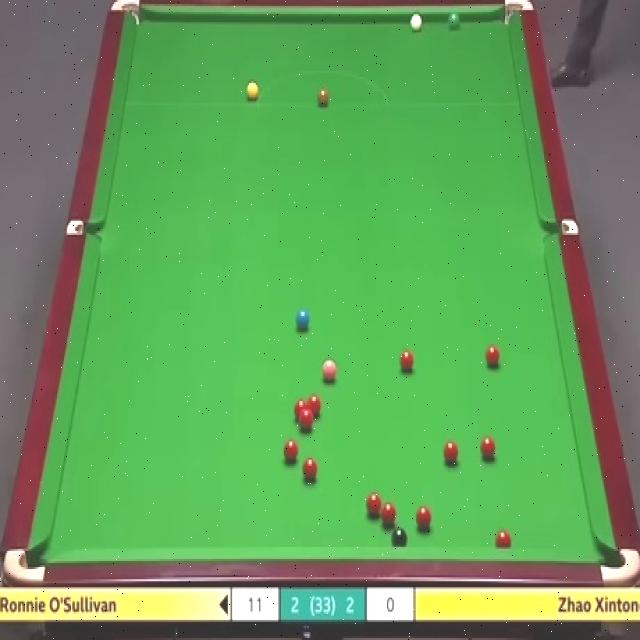black-ball: (392, 526, 408, 548)
blue-ball: (294, 308, 312, 330)
brown-ball: (317, 84, 329, 106)
green-ball: (450, 10, 464, 29)
pink-ball: (321, 360, 338, 384)
red-ball: (442, 440, 461, 466), (415, 506, 433, 533), (381, 499, 397, 529), (280, 441, 300, 464), (399, 346, 415, 374), (480, 436, 498, 460), (365, 493, 382, 518), (484, 344, 500, 370), (298, 464, 316, 485), (293, 399, 308, 424), (308, 394, 321, 418), (494, 529, 512, 546), (300, 412, 314, 432)
white-ball: (408, 15, 422, 34)
yellow-ball: (245, 83, 258, 100)
